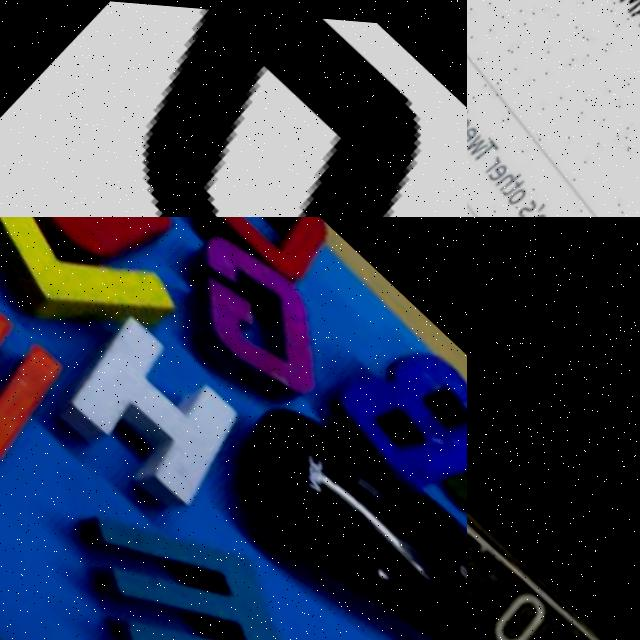0: (496, 575, 570, 640)
7: (467, 511, 508, 592)
8: (0, 0, 467, 217)
B: (302, 298, 467, 527)
G: (136, 217, 369, 422)
H: (28, 292, 284, 532)
L: (0, 217, 193, 387)
M: (37, 446, 337, 640)
O: (165, 217, 348, 300)
W: (0, 256, 99, 487)
